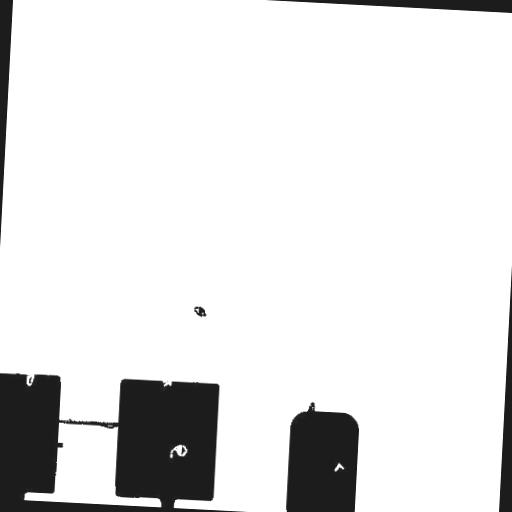copper: (186, 298, 214, 325)
mousebite: (18, 365, 42, 394), (154, 370, 180, 394)
pin-hole: (162, 436, 195, 466), (326, 454, 352, 480)
short: (42, 409, 130, 437)
spur: (298, 394, 324, 424), (46, 434, 72, 456)
